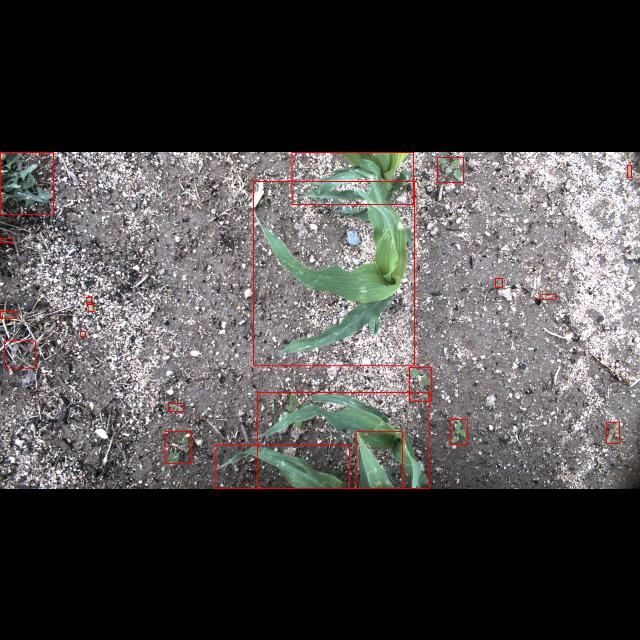crop: (253, 180, 415, 366), (257, 392, 429, 488), (292, 152, 413, 204), (214, 446, 350, 488), (356, 432, 402, 488)
weed: (1, 151, 54, 213), (4, 340, 36, 368), (164, 431, 192, 463), (409, 367, 431, 401), (437, 156, 463, 182), (450, 418, 468, 444), (606, 422, 620, 442), (0, 310, 16, 318), (168, 403, 184, 411), (540, 294, 556, 298), (496, 277, 502, 287), (0, 238, 12, 242), (627, 164, 631, 176), (80, 330, 86, 336), (88, 304, 94, 310), (86, 296, 92, 302)
